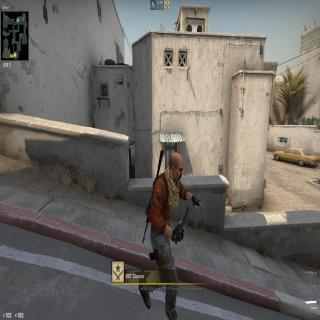T-Head: (168, 148, 185, 186)
